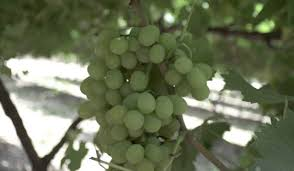Green grapes: (78, 25, 214, 170)
